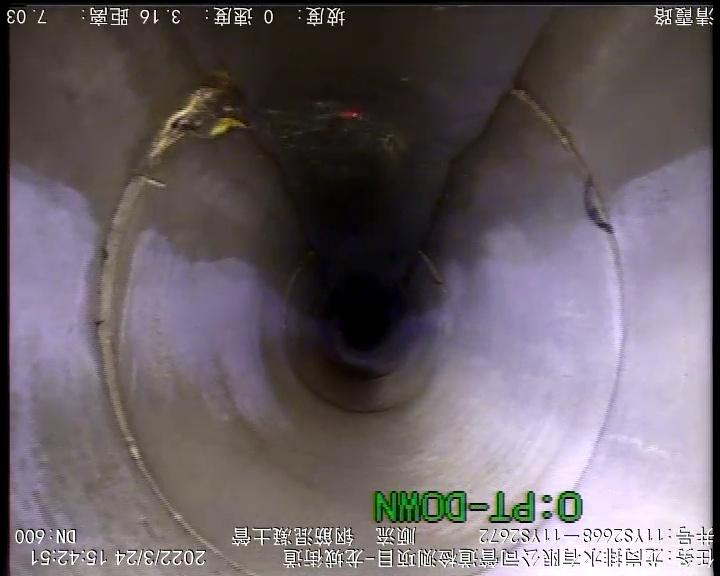CKTJ: (95, 88, 256, 576), (511, 86, 624, 452)
